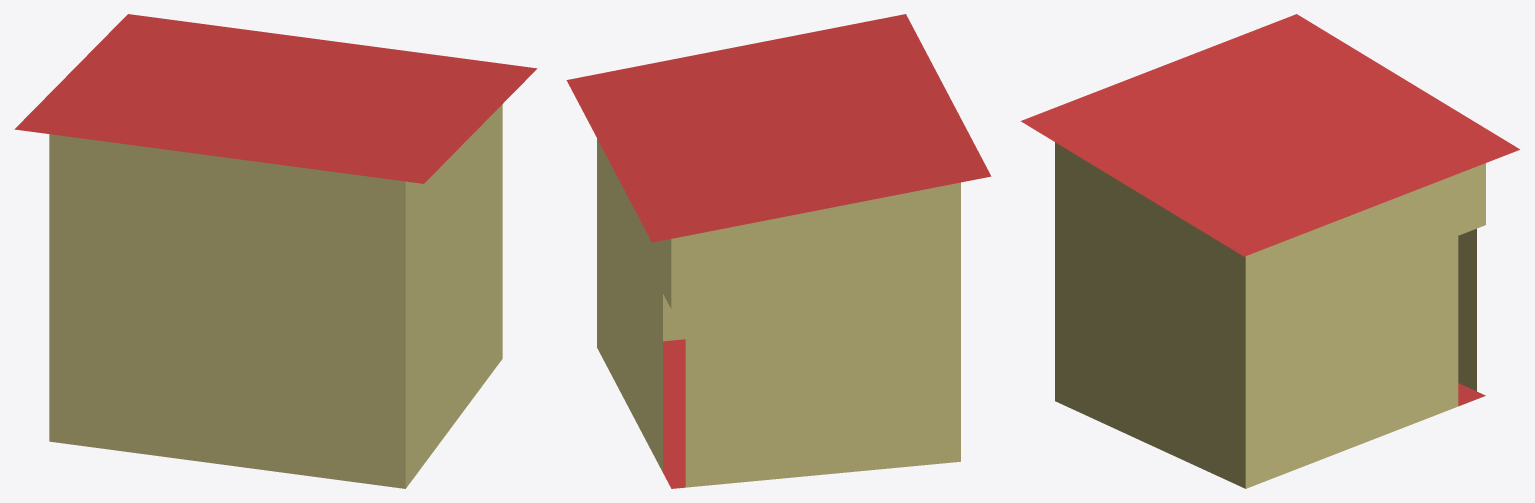
3 renders of one model, left to right at view 1: azimuth 30°, elevation 25°; view 2: azimuth 150°, elevation 25°; view 3: azimuth 270°, elevation 25°, orthographic. The views are drawn at different scales.
Bounding box in the file's own units: 15.31 × 15.39 × 9.48.
